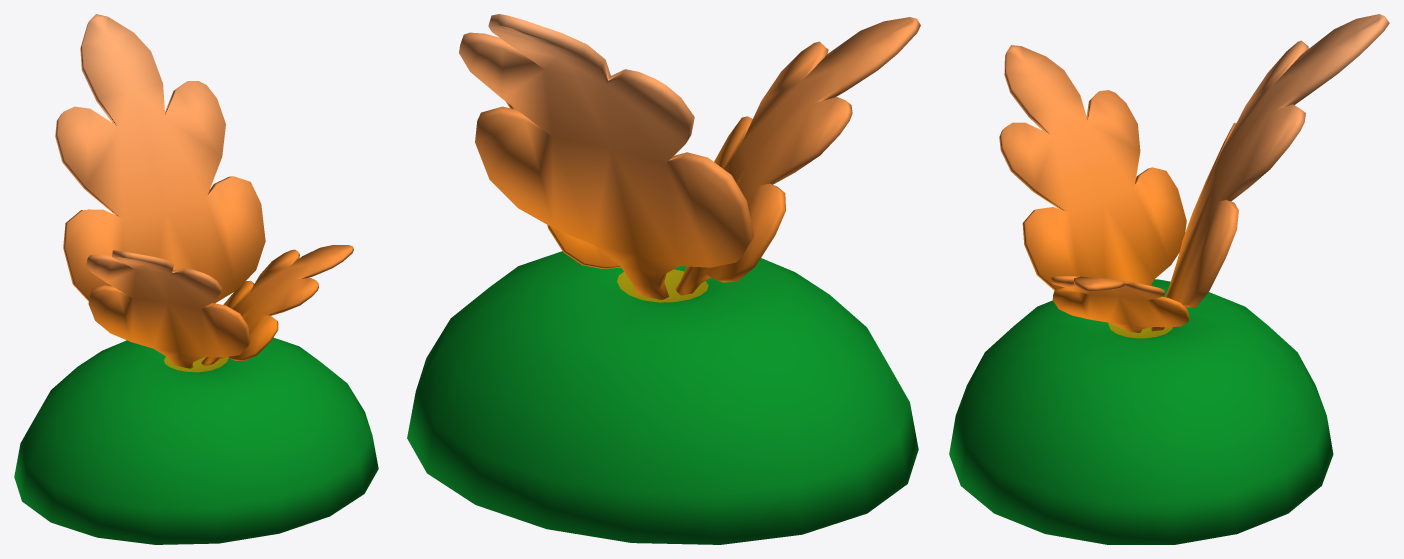
Rendered from Beet_half_01.2.fbx.
3 renders of one model, left to right at view 1: azimuth 30°, elevation 25°; view 2: azimuth 150°, elevation 25°; view 3: azimuth 270°, elevation 25°, orthographic. The views are drawn at different scales.
Visible parts, largest first — view 1: Beet_half_01.2; view 2: Beet_half_01.2; view 3: Beet_half_01.2.
Part boxes in pixels (bbox=[...]): Beet_half_01.2: bbox=[14, 14, 378, 544]; Beet_half_01.2: bbox=[407, 14, 920, 544]; Beet_half_01.2: bbox=[949, 14, 1389, 544].
Bounding box in the file's own units: 71.56 × 73.63 × 81.34.
